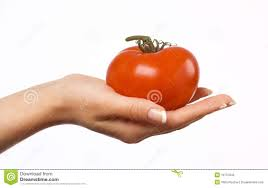tomato: (106, 46, 199, 110)
